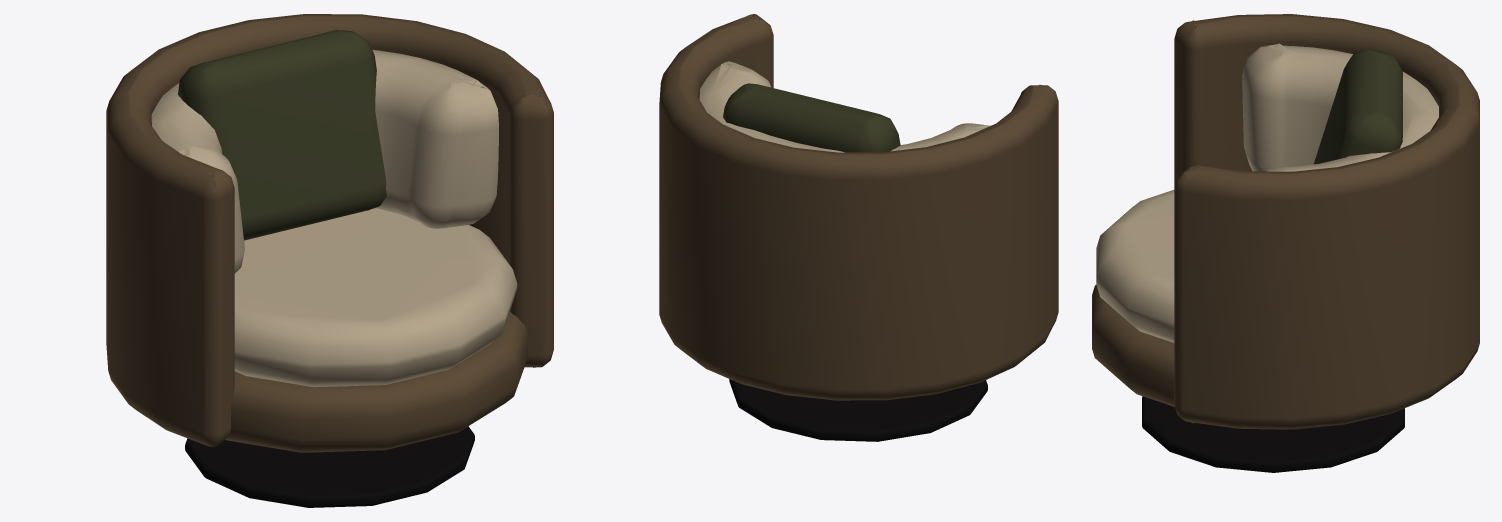
Rendered from swivel-lounge-chair-lod2.glb.
3 renders of one model, left to right at view 1: azimuth 30°, elevation 25°; view 2: azimuth 150°, elevation 25°; view 3: azimuth 270°, elevation 25°, orthographic. The views are drawn at different scales.
Parts seen in each view (by area): view 1: Woven taupe rope, Oatmeal performance fabric, Olive accent pillow, Powder-coated bronze aluminium; view 2: Woven taupe rope, Powder-coated bronze aluminium, Olive accent pillow, Oatmeal performance fabric; view 3: Woven taupe rope, Oatmeal performance fabric, Powder-coated bronze aluminium, Olive accent pillow.
Boxes of the visible parts, x1,y1,x2,y2 form: Woven taupe rope: [106, 14, 553, 452]; Oatmeal performance fabric: [151, 50, 517, 387]; Olive accent pillow: [178, 30, 386, 240]; Powder-coated bronze aluminium: [185, 426, 474, 507]; Woven taupe rope: [659, 14, 1058, 400]; Powder-coated bronze aluminium: [729, 379, 987, 441]; Olive accent pillow: [723, 83, 900, 152]; Oatmeal performance fabric: [699, 61, 990, 152]; Woven taupe rope: [1092, 14, 1479, 429]; Oatmeal performance fabric: [1096, 43, 1438, 342]; Powder-coated bronze aluminium: [1142, 396, 1404, 472]; Olive accent pillow: [1314, 49, 1402, 164].
Size of the model in its own units: 0.8875 by 0.7666 by 0.8298.
